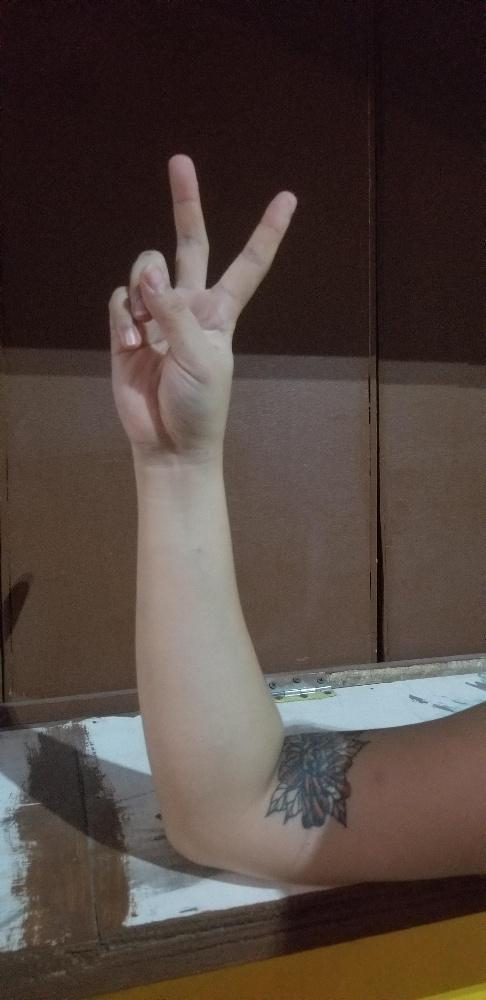v: (110, 153, 298, 447)
